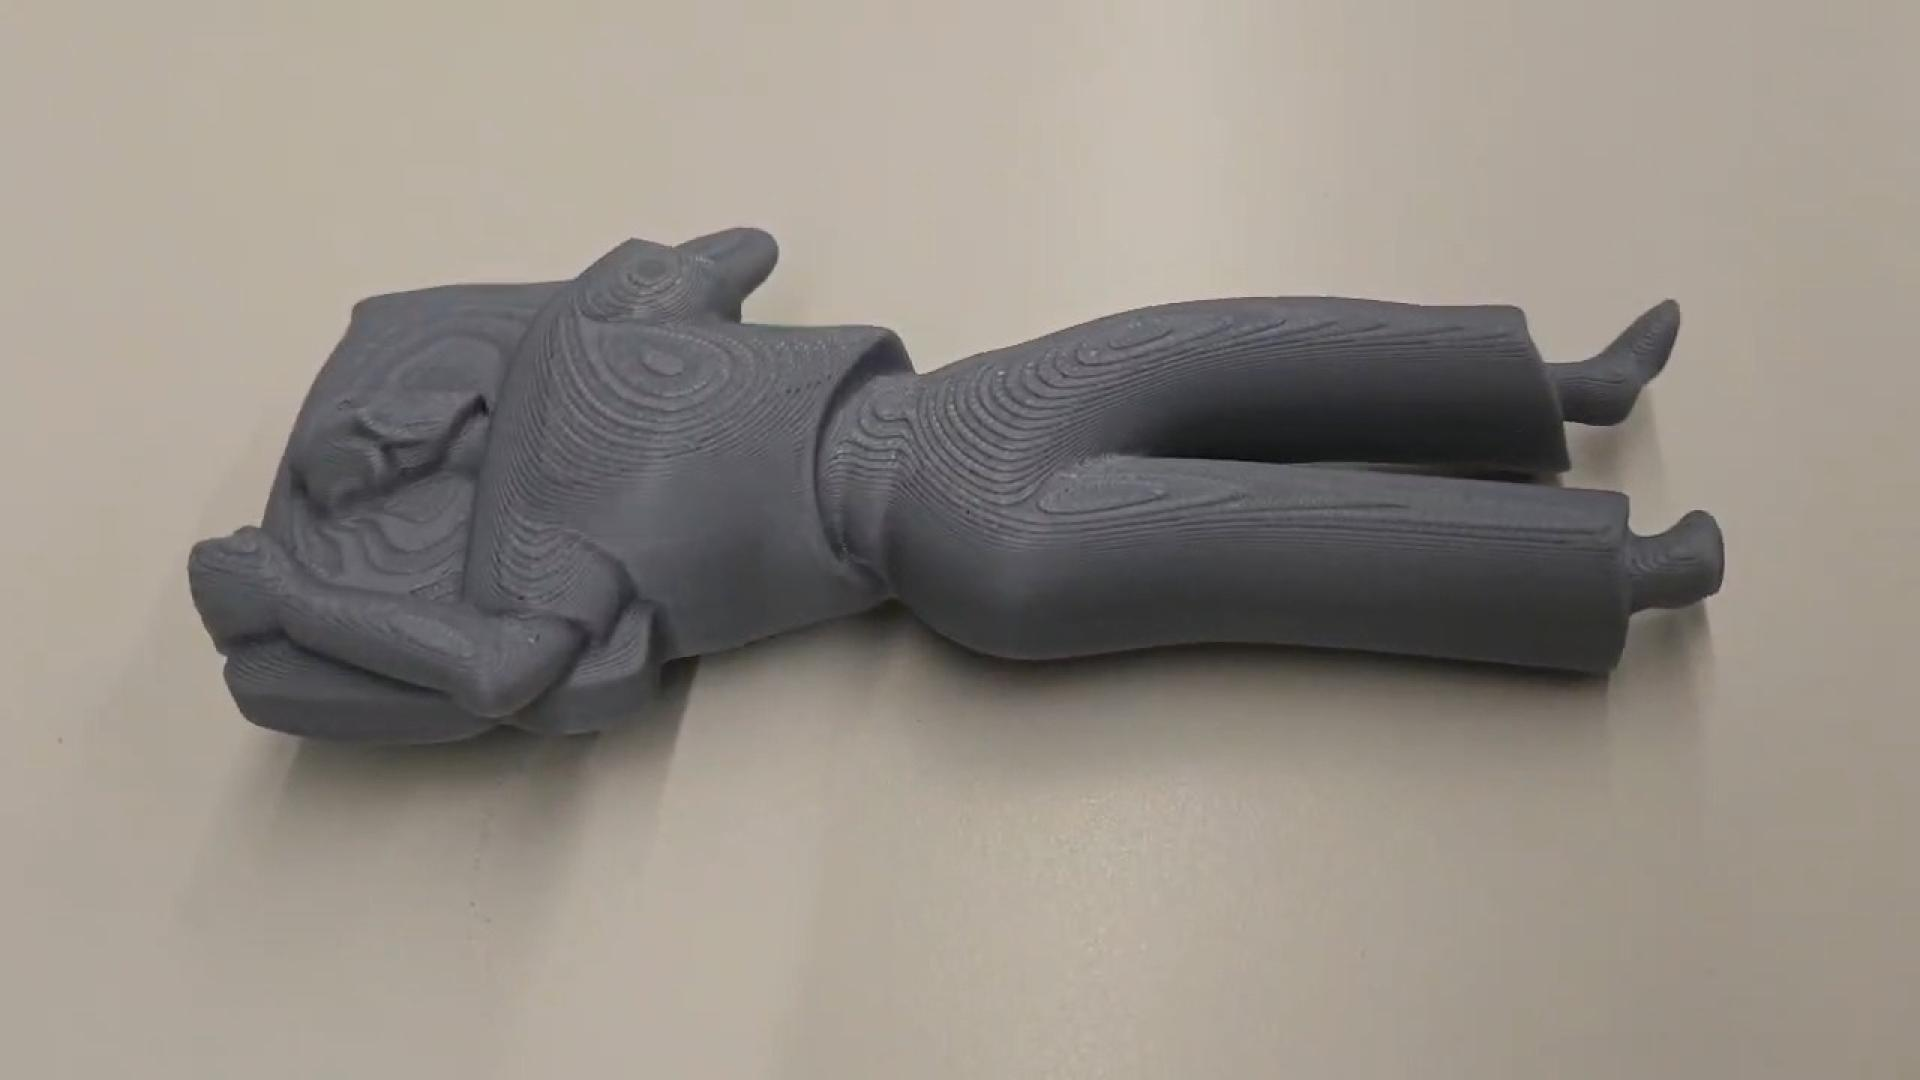Bad-style: (187, 216, 1734, 773)
